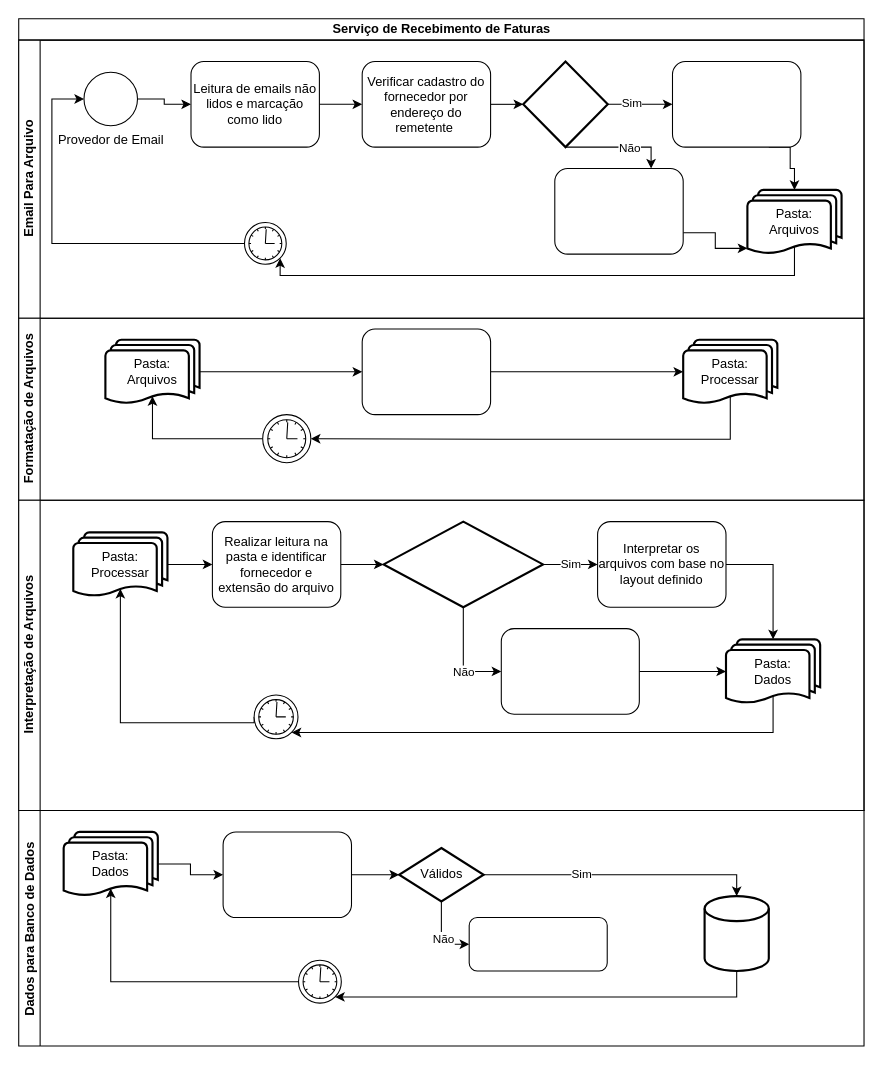
This 883x1065 diagram has some shape labels left out. The centre of each missing label's shape, as x and y in pixels:
Banco de Dados: (736,933)
Gravar alerta de necessidade de cadastro de fornecedor: (618,210)
Gravar alerta de necessidade de cadastro do layout do fornecedor: (569,671)
Gravar alerta de recebimento inválido: (537,943)
Leitura dos arquivos e realizar validação de dados: (286,874)
Ler o email e fazer o download do anexo ou utilizar o link: (736,103)
Possui Cadastro: (565,104)
Possui layout por fornecedor: (463,564)
Realizar conversão de arquivo XLS e extrair texto de PDF: (426,371)
